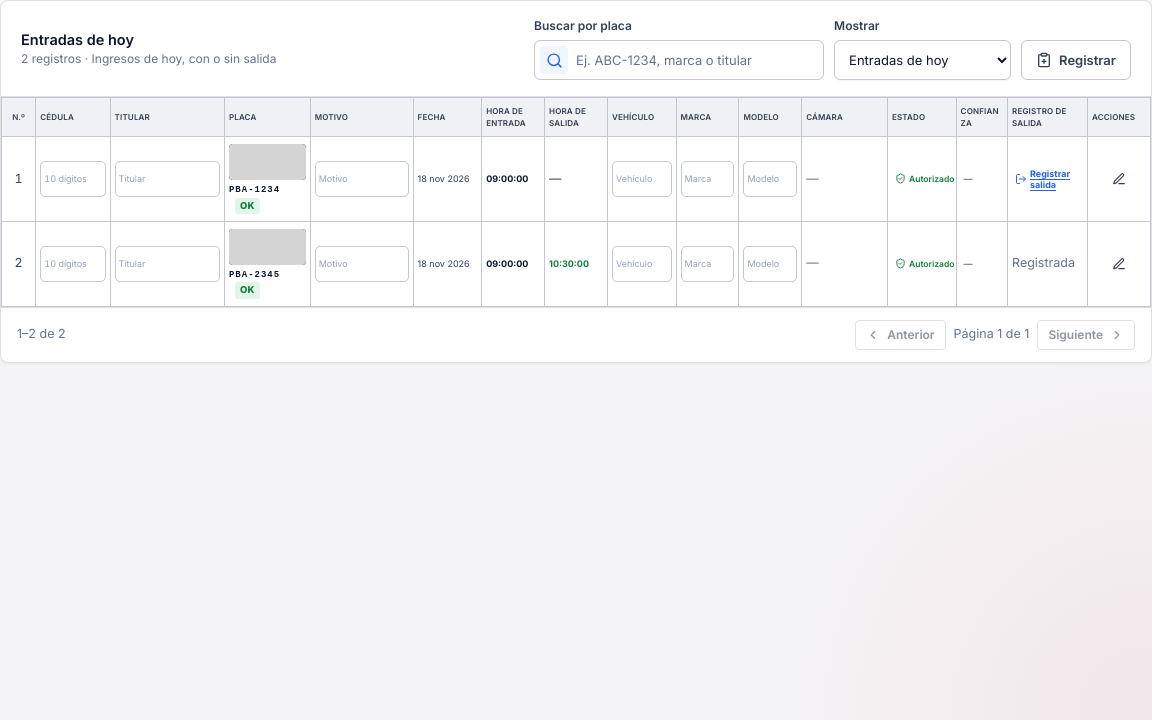
it: muestra las entradas de hoy con y sin salida y permite volver a los pendientes de todas las fechas
Expected: the text "2 registros · Ingresos de hoy, con o sin salida" is shown, [21,50,276,68]
Expected: the text "PBA-1234" is shown, [229,184,280,198]
Select "Todos los pendientes" in the dropdown named "Filtrar accesos" at [923, 60], box [834,40,1011,80]
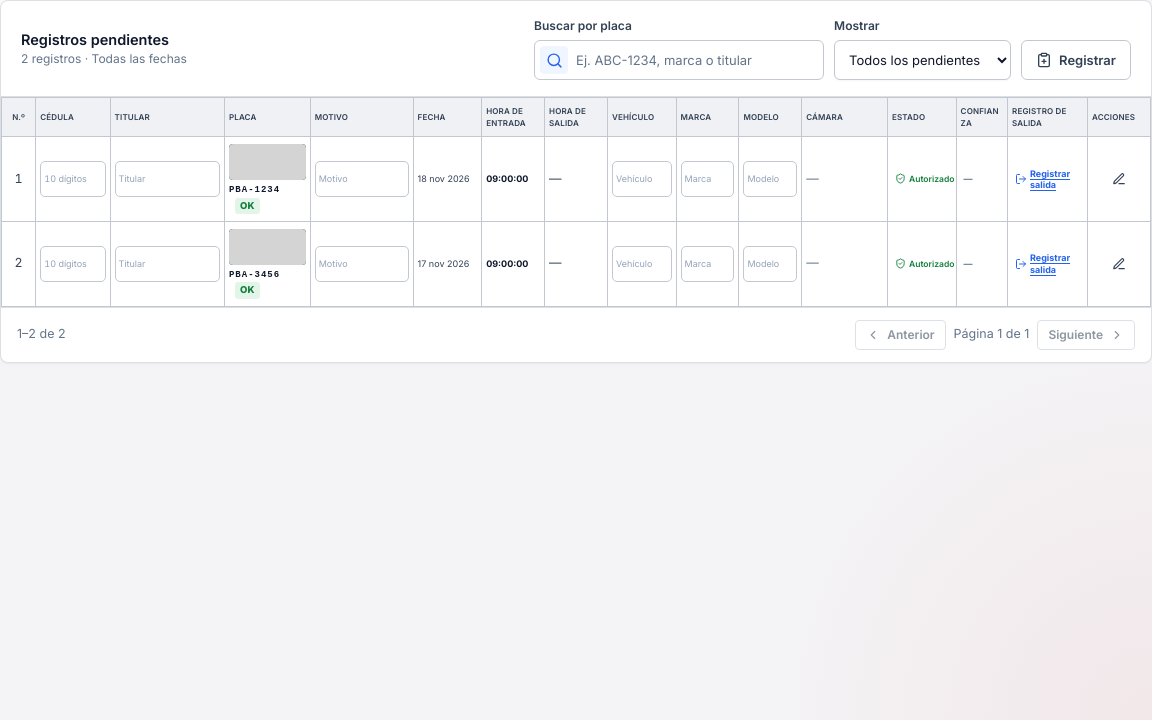
Now the text "PBA-3456" is shown, box [229,269,280,282]
Now the text "2 registros · Todas las fechas" is shown, box [21,50,187,68]
Now the text "PBA-2345" is gone
